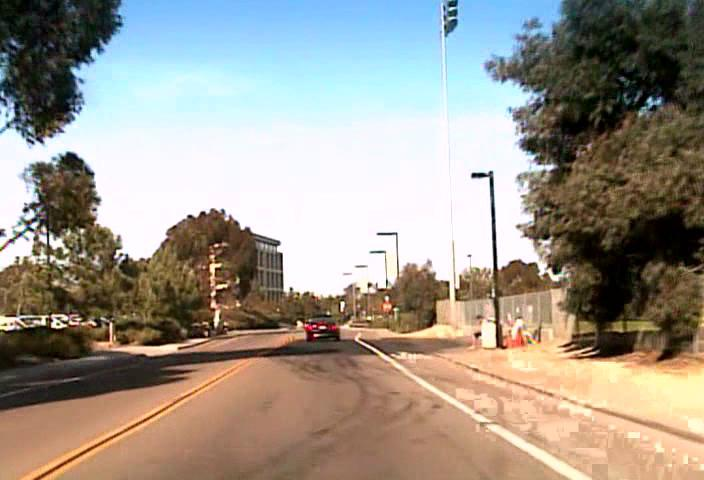stop: (381, 301, 392, 311)
